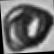correct: (0, 0, 54, 52)
